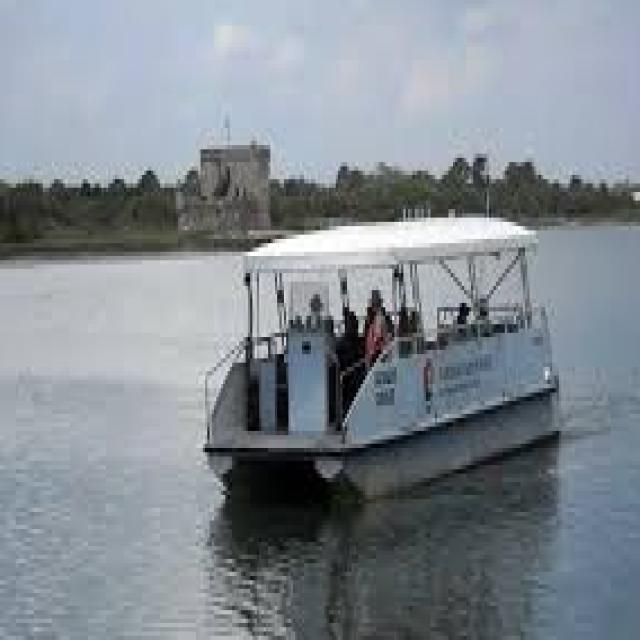houseboat: (210, 197, 547, 497)
